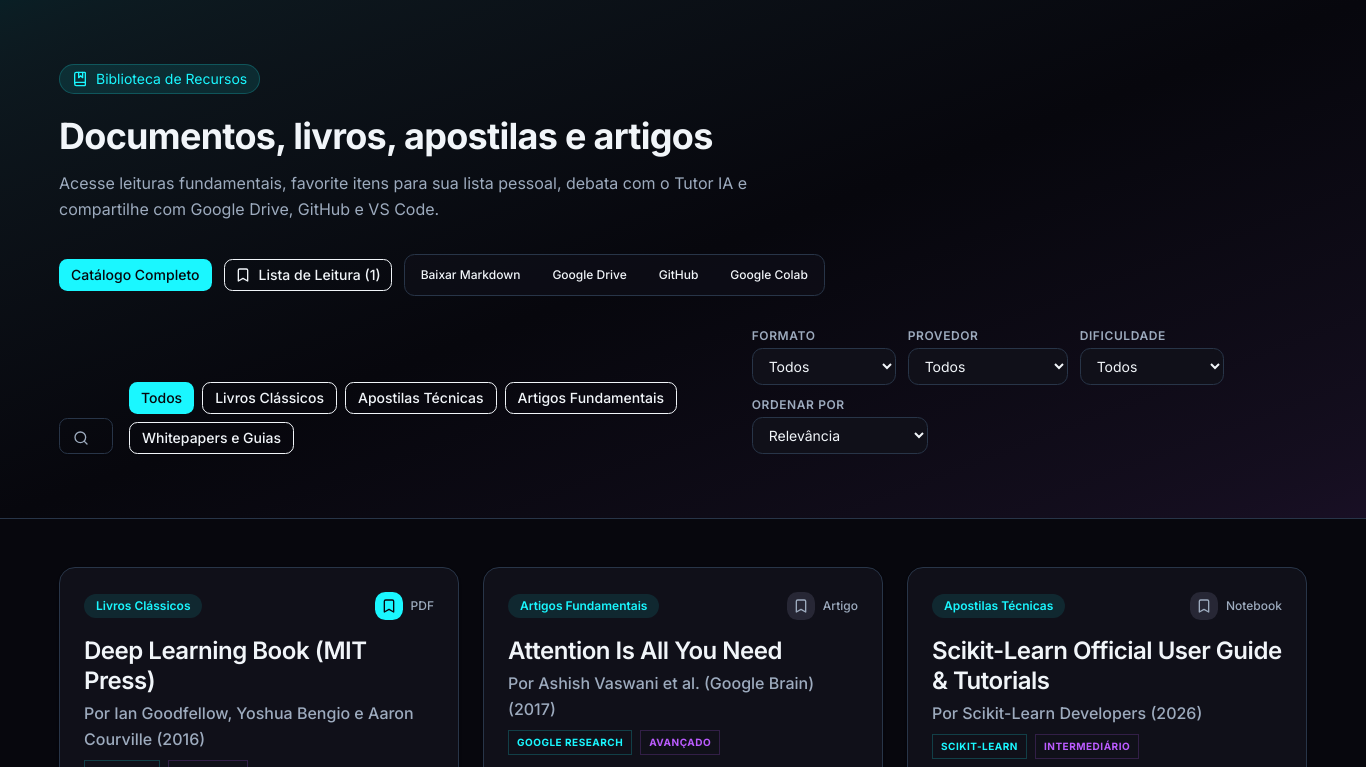
Scenario: Library export interactions › refina a busca por provedor e nível de dificuldade
Select "OpenAI" in the dropdown named "Filtrar por provedor" at (988, 366), box [908,348,1068,385]
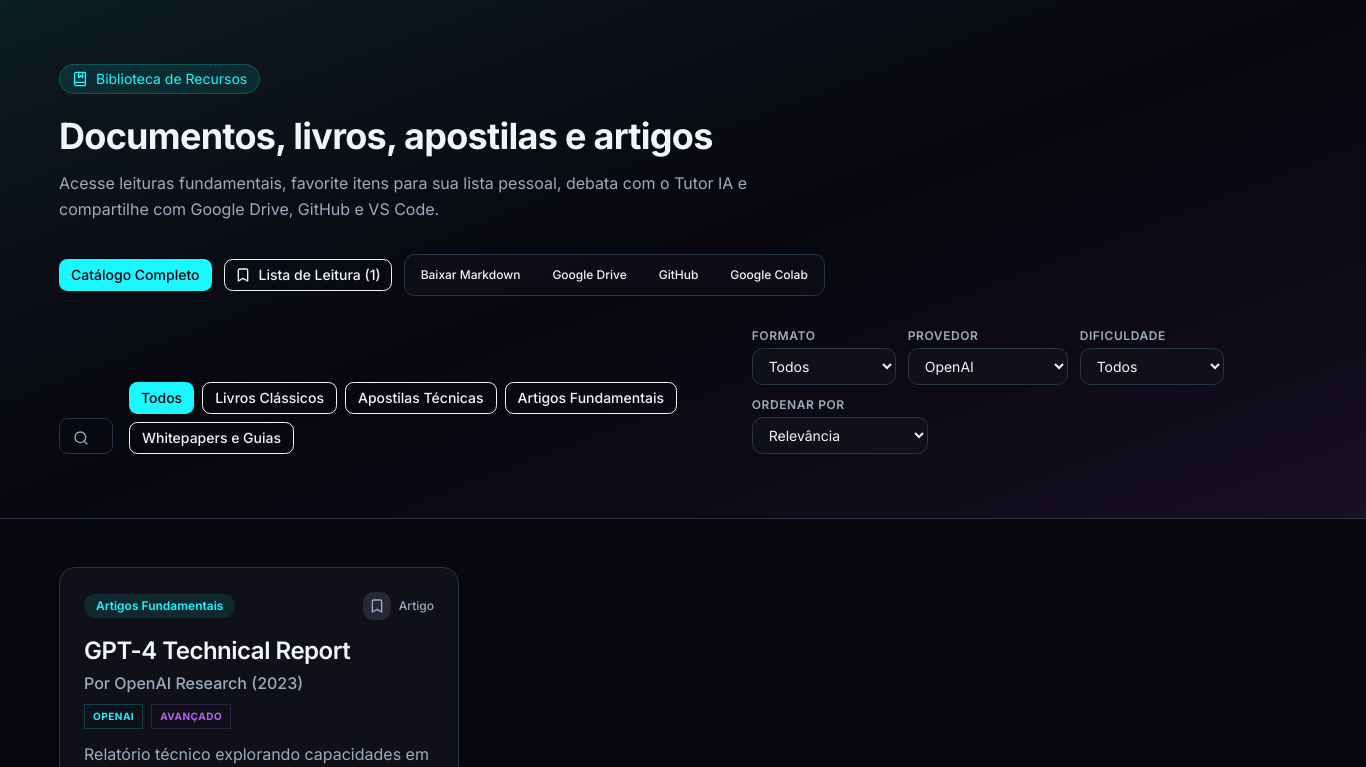
Expected: the heading "GPT-4 Technical Report" is shown, [84,636,350,665]
Select "Fundamental" in the dropdown named "Filtrar por dificuldade" at (1152, 366), box [1080,348,1224,385]
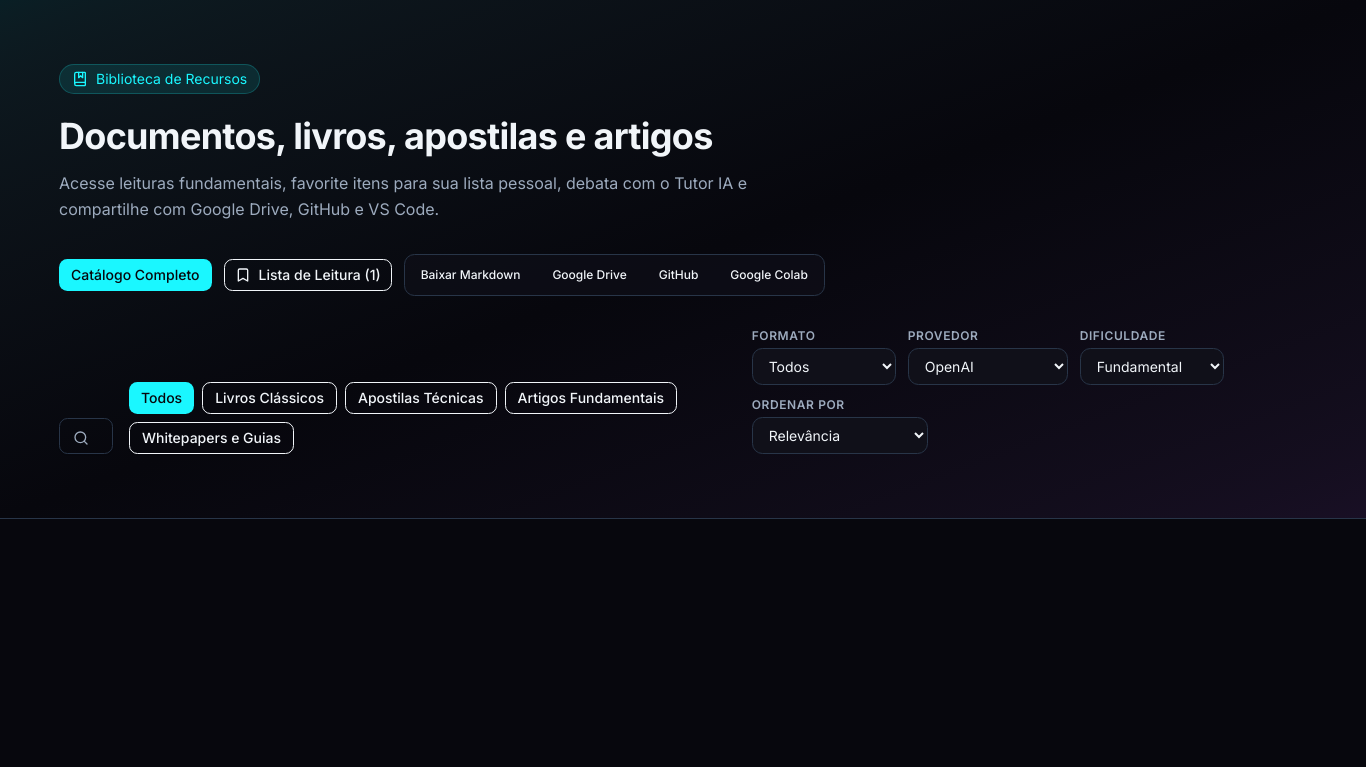
Expected: the heading "GPT-4 Technical Report" is gone
